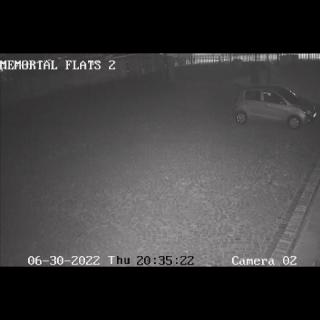car: (232, 87, 318, 128)
